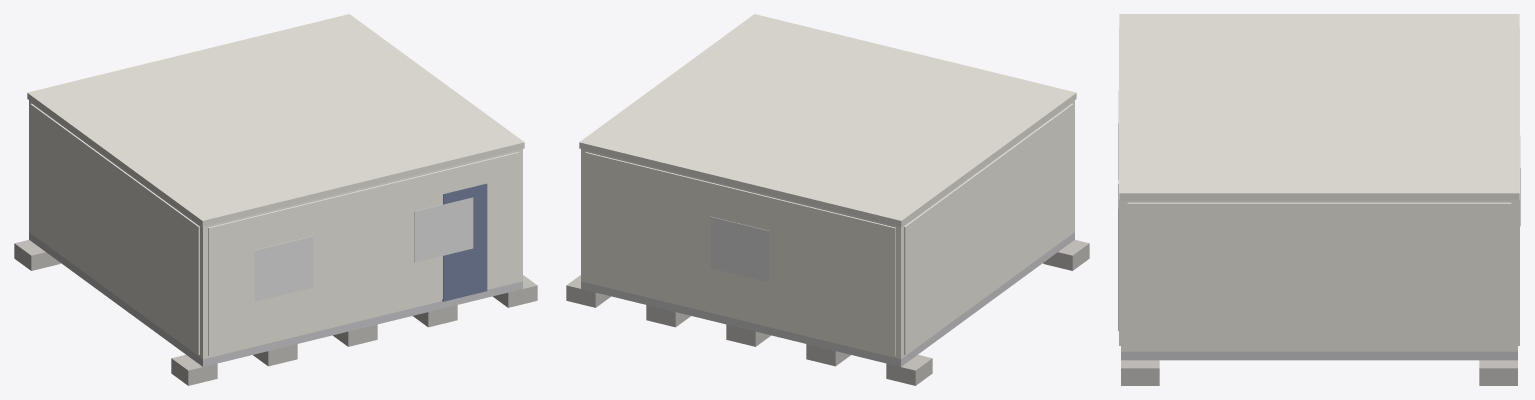
File: Studio-20-Base-IvoryWhite-LOD0.glb
3 views of the same model, side by side, from view 1: azimuth 30°, elevation 25°; view 2: azimuth 150°, elevation 25°; view 3: azimuth 270°, elevation 25° (orthographic). The views are drawn at different scales.
Parts seen in each view (by area): view 1: RoofMain, ExteriorPanelsStandard, WindowsStandard, FoundationBlocks, BaseFrame, ExteriorShell, EntryDoor; view 2: ExteriorPanelsStandard, RoofMain, FoundationBlocks, BaseFrame, ExteriorShell, WindowsStandard; view 3: RoofMain, ExteriorPanelsStandard, ExteriorShell, BaseFrame, FoundationBlocks.
Boxes of the visible parts, x1,y1,x2,y2 form: RoofMain: (27, 14, 524, 226); ExteriorPanelsStandard: (30, 103, 518, 355); WindowsStandard: (254, 197, 473, 301); FoundationBlocks: (14, 240, 537, 385); BaseFrame: (29, 232, 522, 366); ExteriorShell: (29, 100, 522, 359); EntryDoor: (442, 183, 487, 301); ExteriorPanelsStandard: (585, 103, 1073, 355); RoofMain: (579, 14, 1076, 226); FoundationBlocks: (566, 240, 1089, 385); BaseFrame: (581, 232, 1074, 366); ExteriorShell: (581, 100, 1074, 359); WindowsStandard: (710, 216, 769, 281); RoofMain: (1119, 14, 1519, 200); ExteriorPanelsStandard: (1119, 27, 1519, 349); ExteriorShell: (1121, 200, 1517, 351); BaseFrame: (1121, 351, 1517, 360); FoundationBlocks: (1121, 360, 1517, 385).
Bounding box in the file's own units: 7.14 × 3.17 × 6.24.
